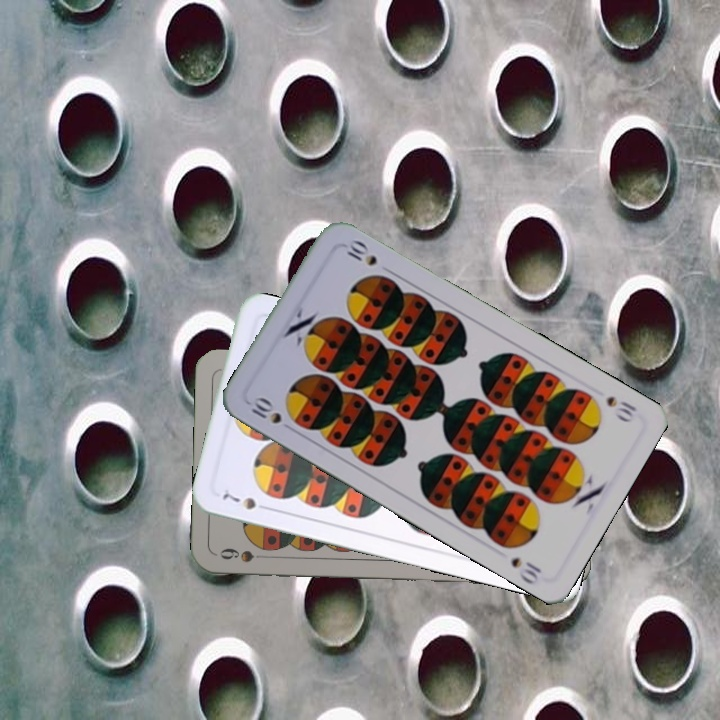S10: (245, 392, 298, 435), (602, 392, 639, 425)
S7: (218, 489, 273, 513)
S9: (216, 544, 274, 565)
